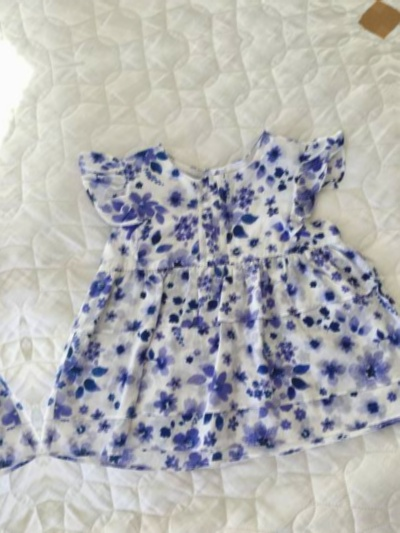Dress: (23, 88, 400, 476), (0, 147, 19, 533), (0, 0, 354, 6)
